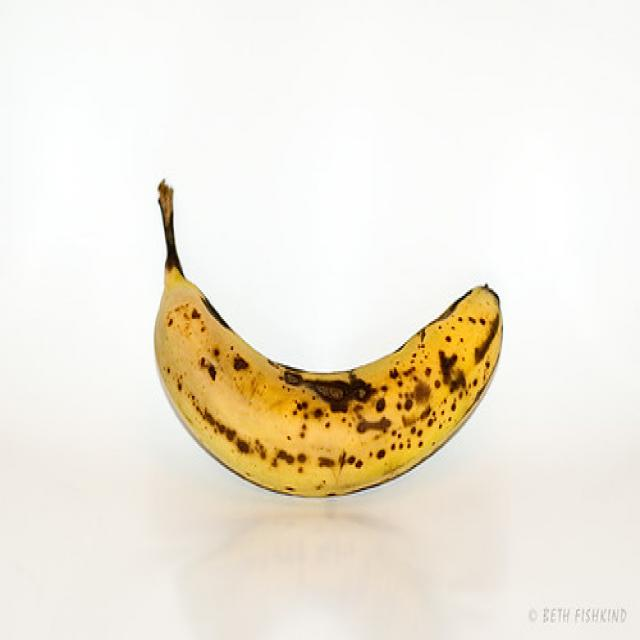Banana: (147, 181, 503, 500)
